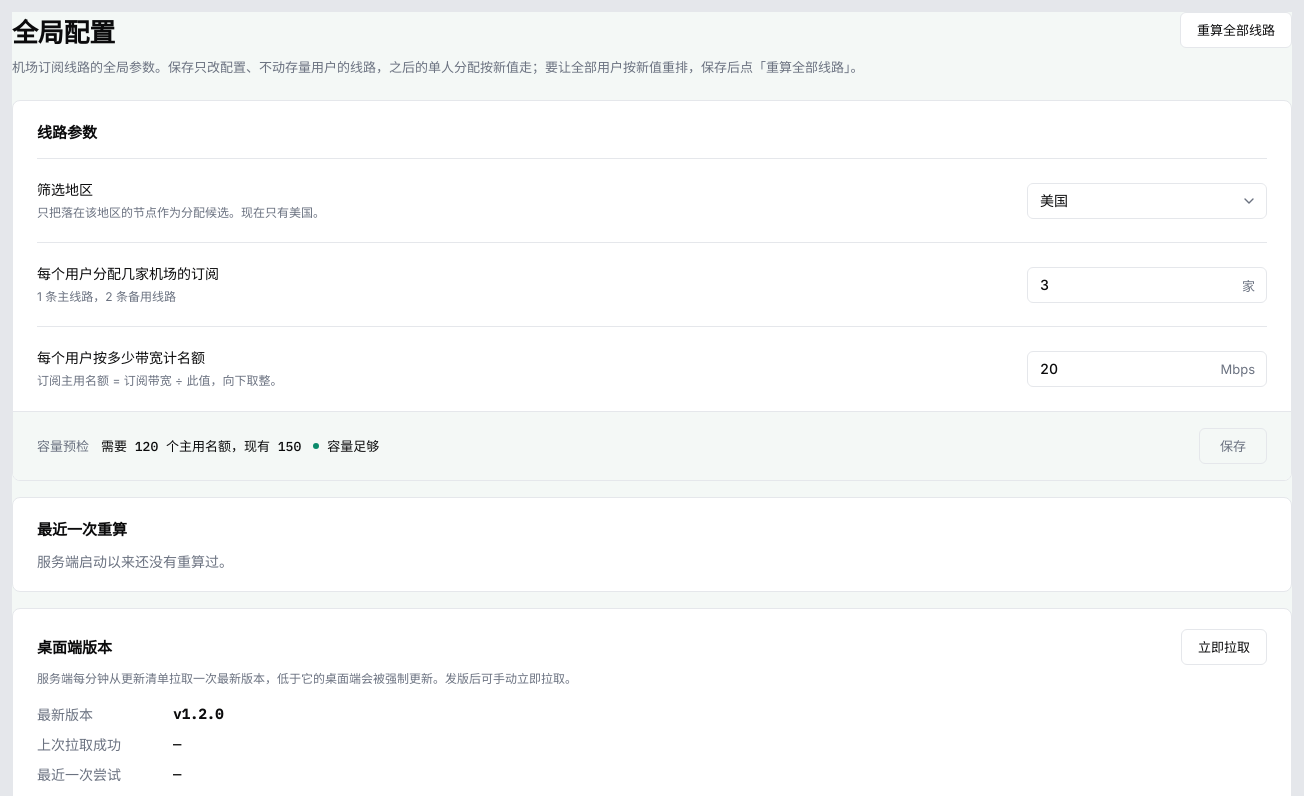
Scenario: SettingsView › 改机场数为 1 时提示「1 条主线路，0 条备用线路」
The image size is (1304, 796).
Replace the text in the number field with id "setting-airports" with "1" at (1147, 285), box 1027,267 -> 1267,303
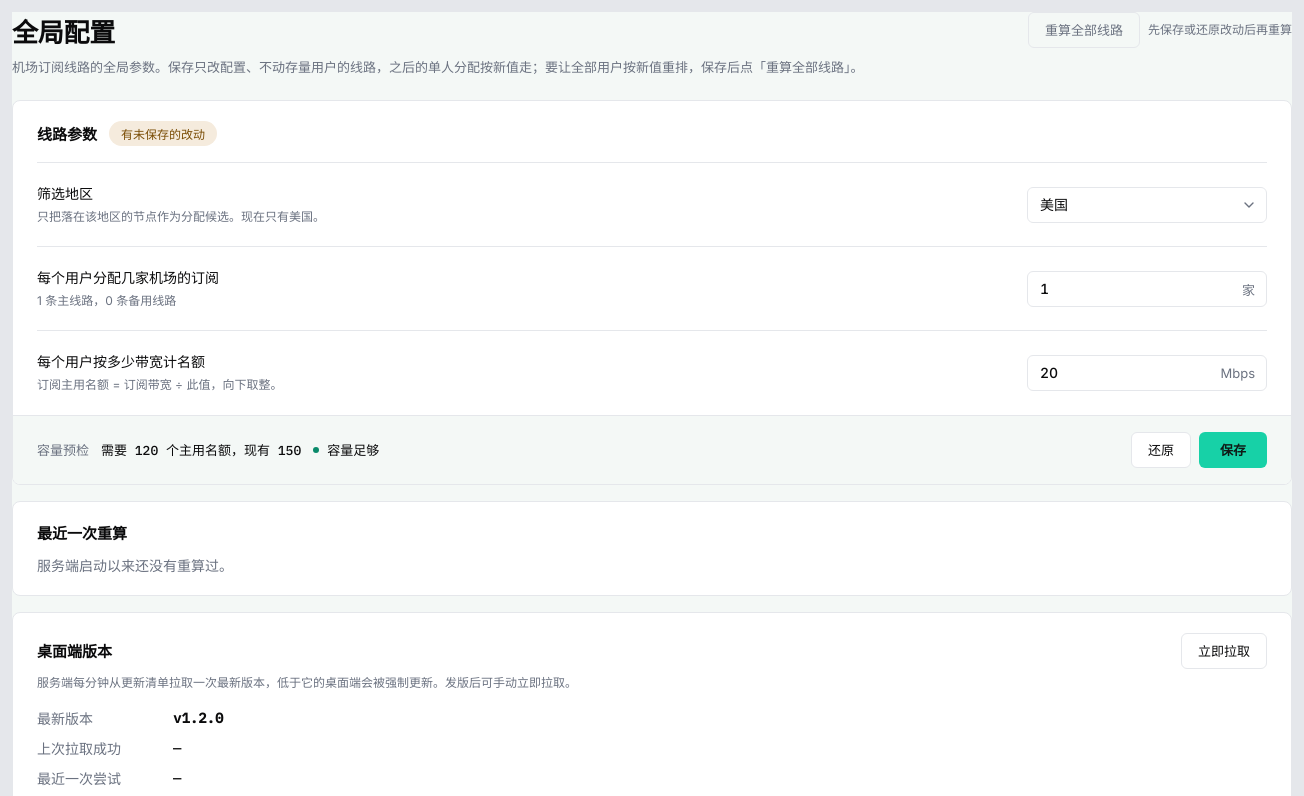
Check: the text "1 条主线路，0 条备用线路" is shown, box 37,293 -> 176,308
